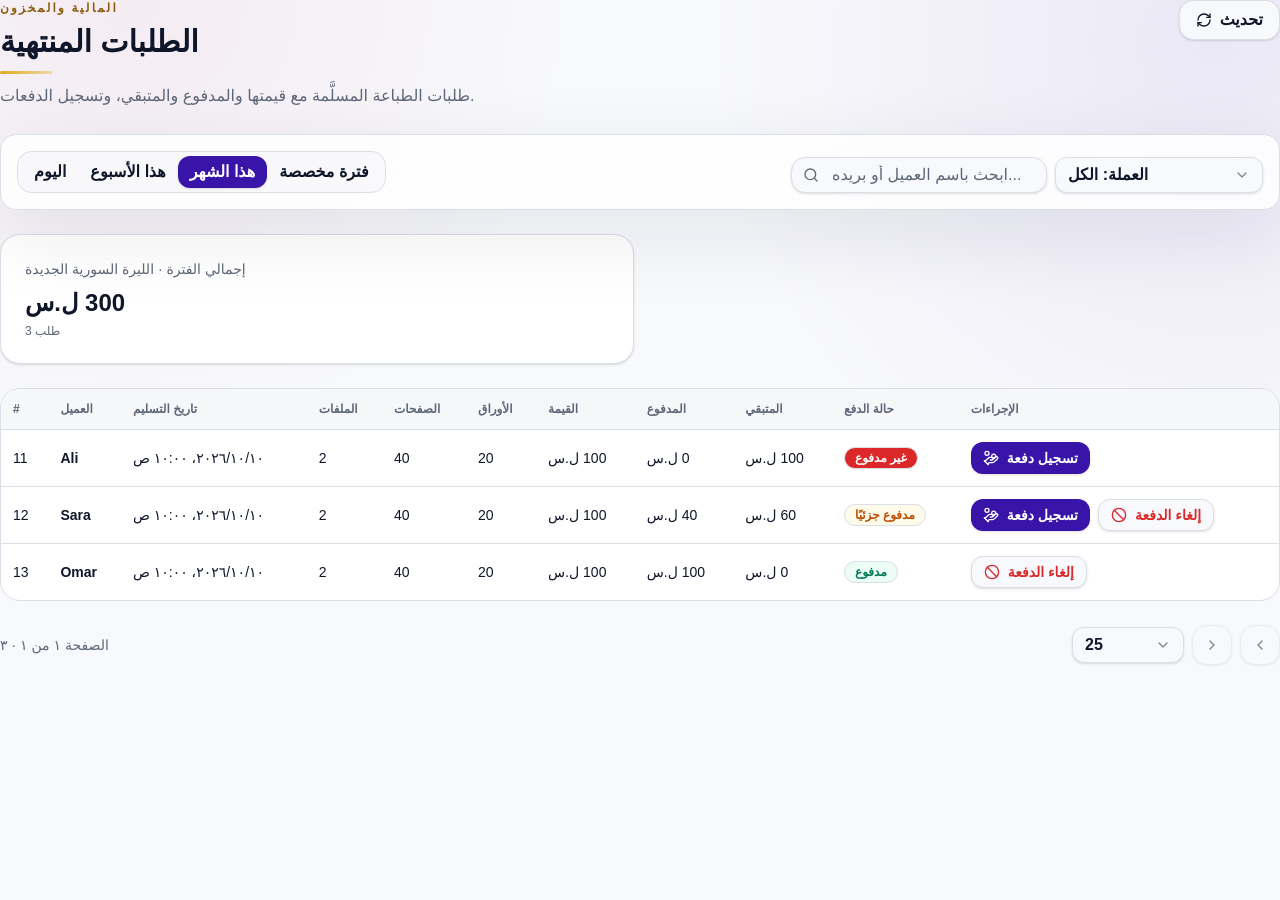
finished print orders page › rejects an amount above what is due
Check: the text "Ali" is shown, box [48,430,121,487]
Click the button "تسجيل دفعة" in the row of "11".
click(1030, 458)  # box [971,442,1090,474]
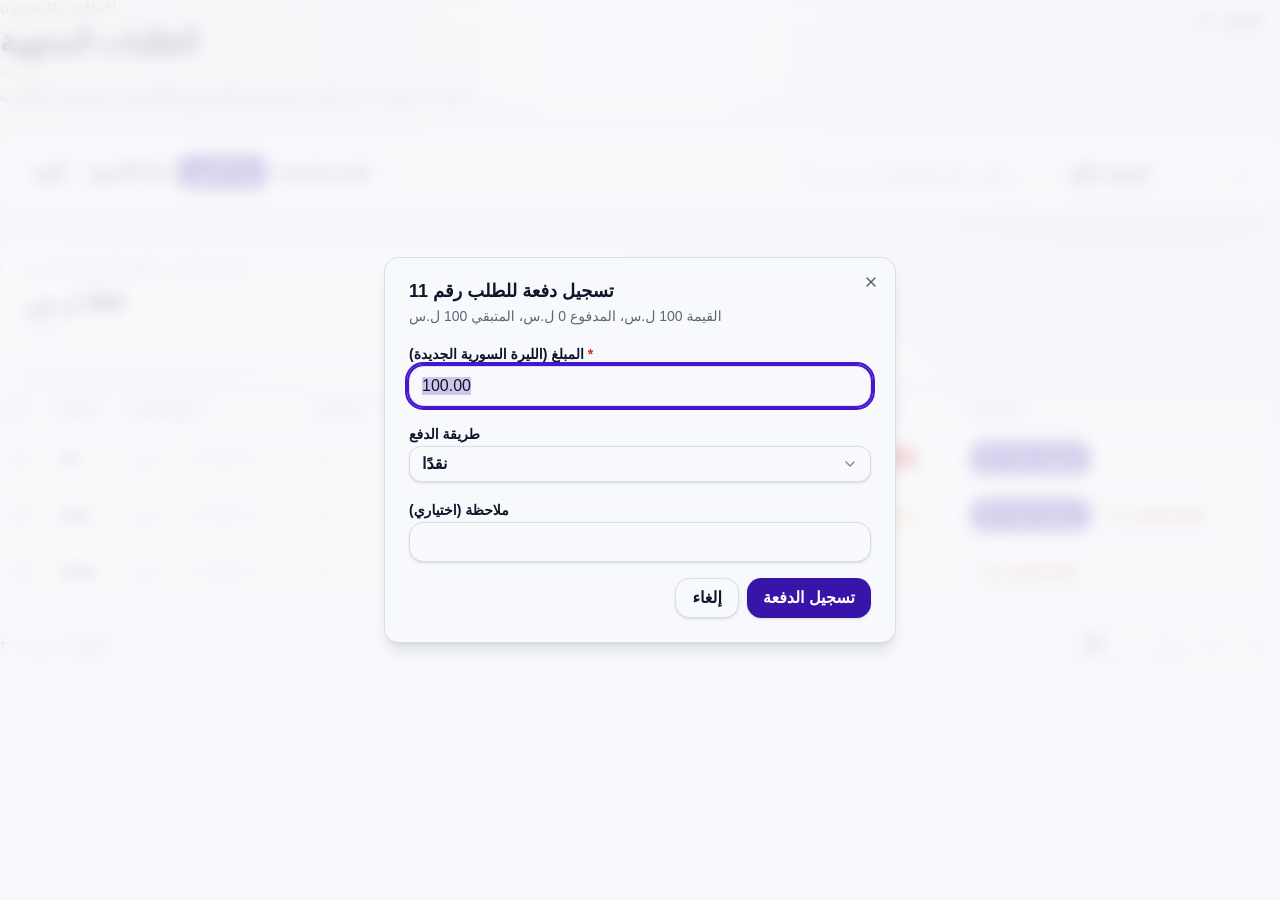
Replace the text in the field labelled "المبلغ (الليرة السورية الجديدة)*" with "150" at (640,386), box [409,366,871,406]
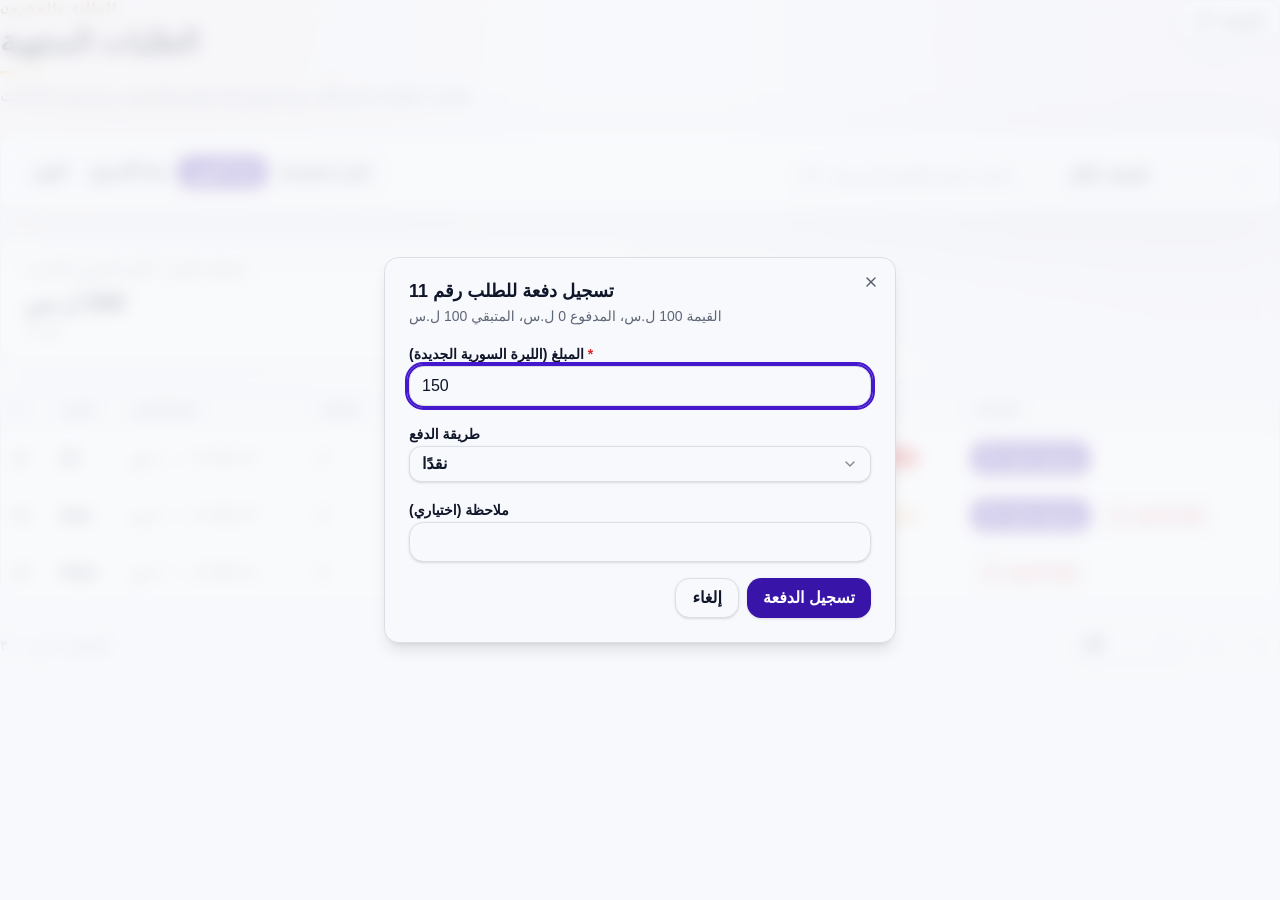
Click the button "تسجيل الدفعة".
click(809, 598)  # box [747,578,871,618]
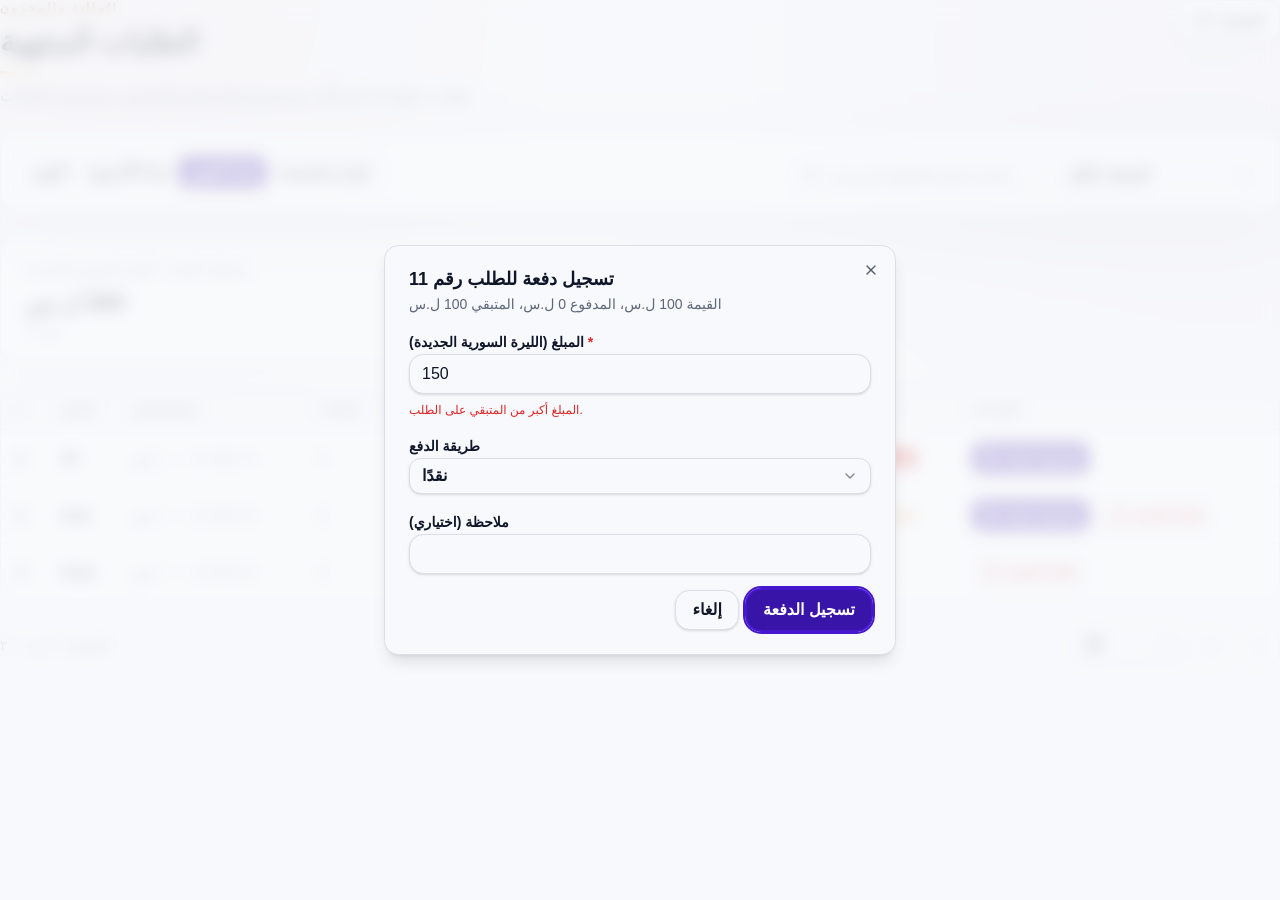
Check: the text "المبلغ أكبر من المتبقي على الطلب." is shown, box [409,403,583,417]
